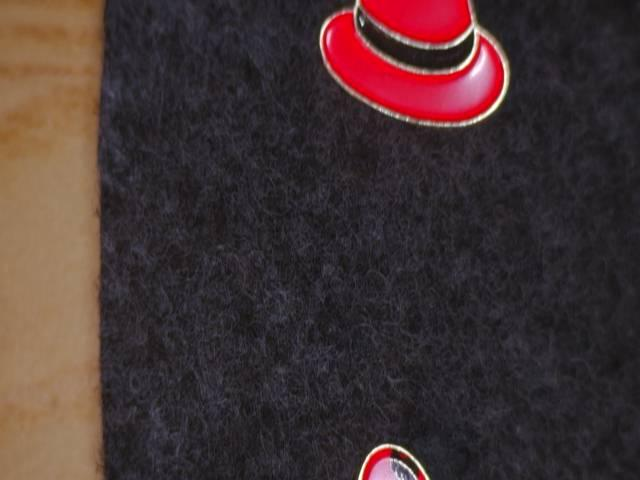Red-Hat: (288, 0, 517, 157)
